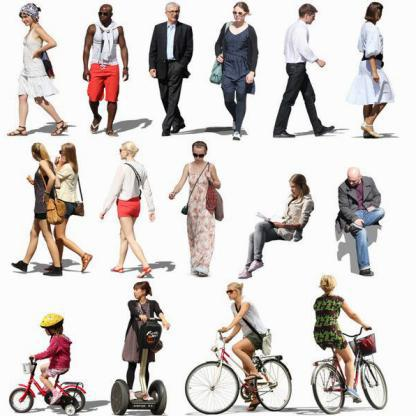person: (237, 170, 314, 278), (212, 280, 274, 408), (270, 3, 328, 138), (142, 0, 196, 138), (170, 143, 224, 278), (13, 0, 66, 134), (79, 4, 132, 135), (311, 275, 364, 402), (210, 0, 258, 140), (113, 280, 168, 398), (108, 139, 156, 274), (347, 0, 392, 141), (332, 168, 385, 277), (21, 141, 57, 276), (51, 140, 87, 270), (30, 310, 76, 404)
